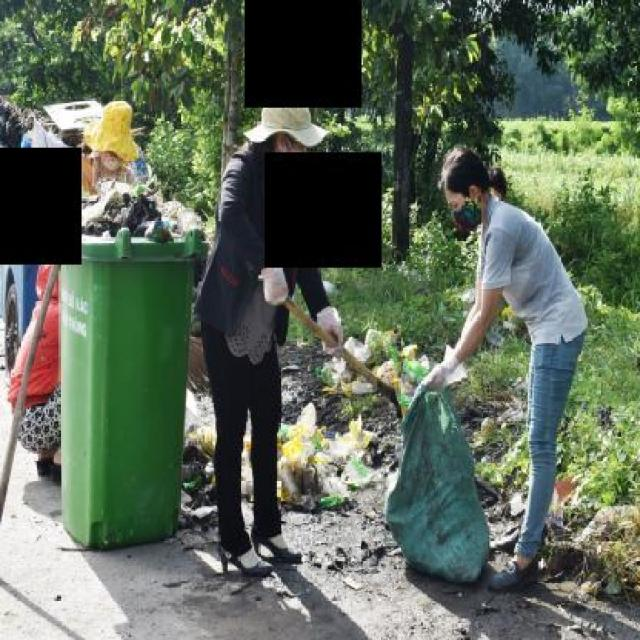plastic bag: (383, 352, 491, 580), (63, 171, 205, 254), (272, 408, 374, 522), (322, 326, 432, 405), (0, 96, 88, 190), (252, 249, 294, 308), (299, 298, 346, 349)
